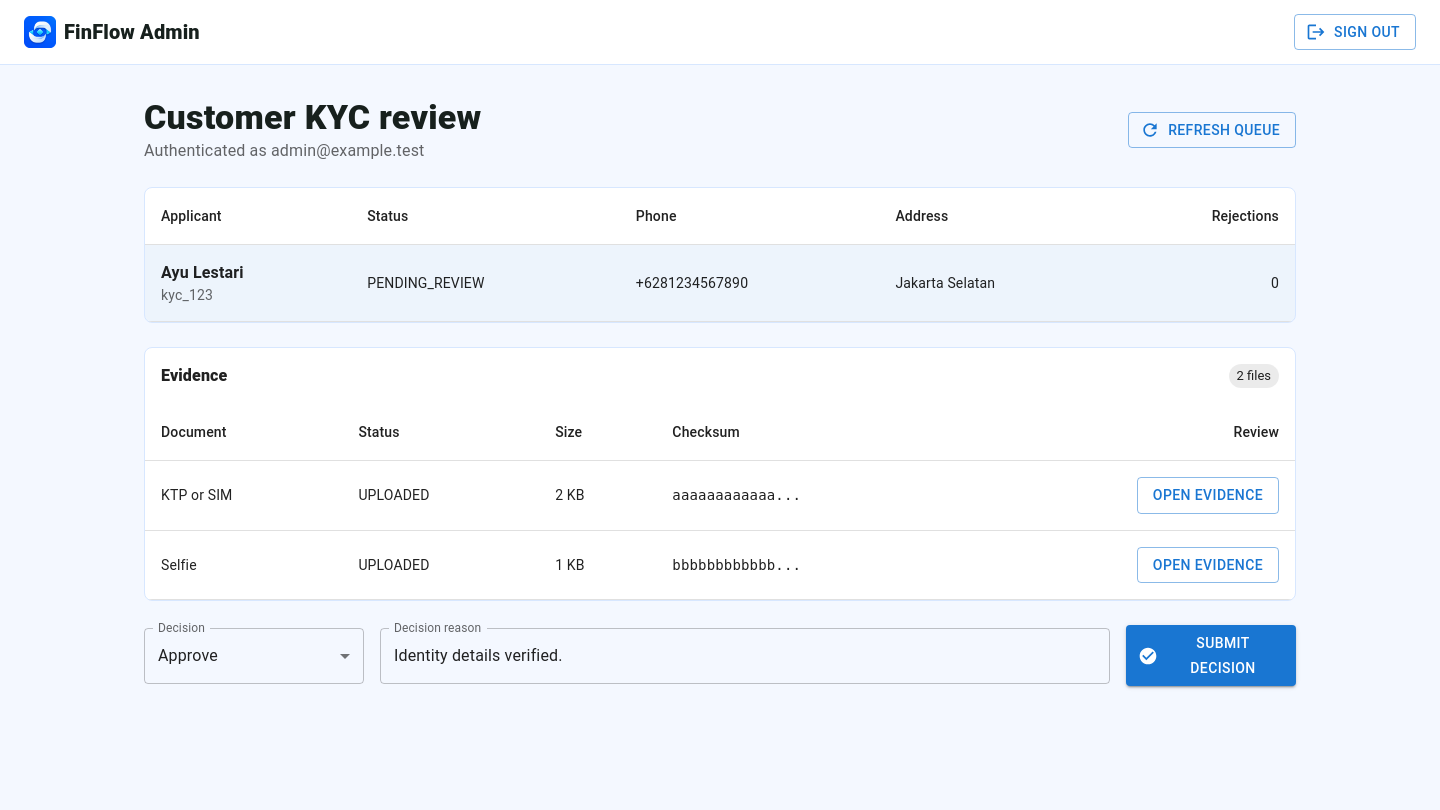
Scenario: App › loads pending KYC applications and submits an approval decision
Expected: the text "Ayu Lestari" is shown, [161,263,244,282]
Expected: the text "KTP or SIM" is shown, [145,460,342,530]
Click the button "Submit decision" at (1211, 656), box [1126,625,1296,686]
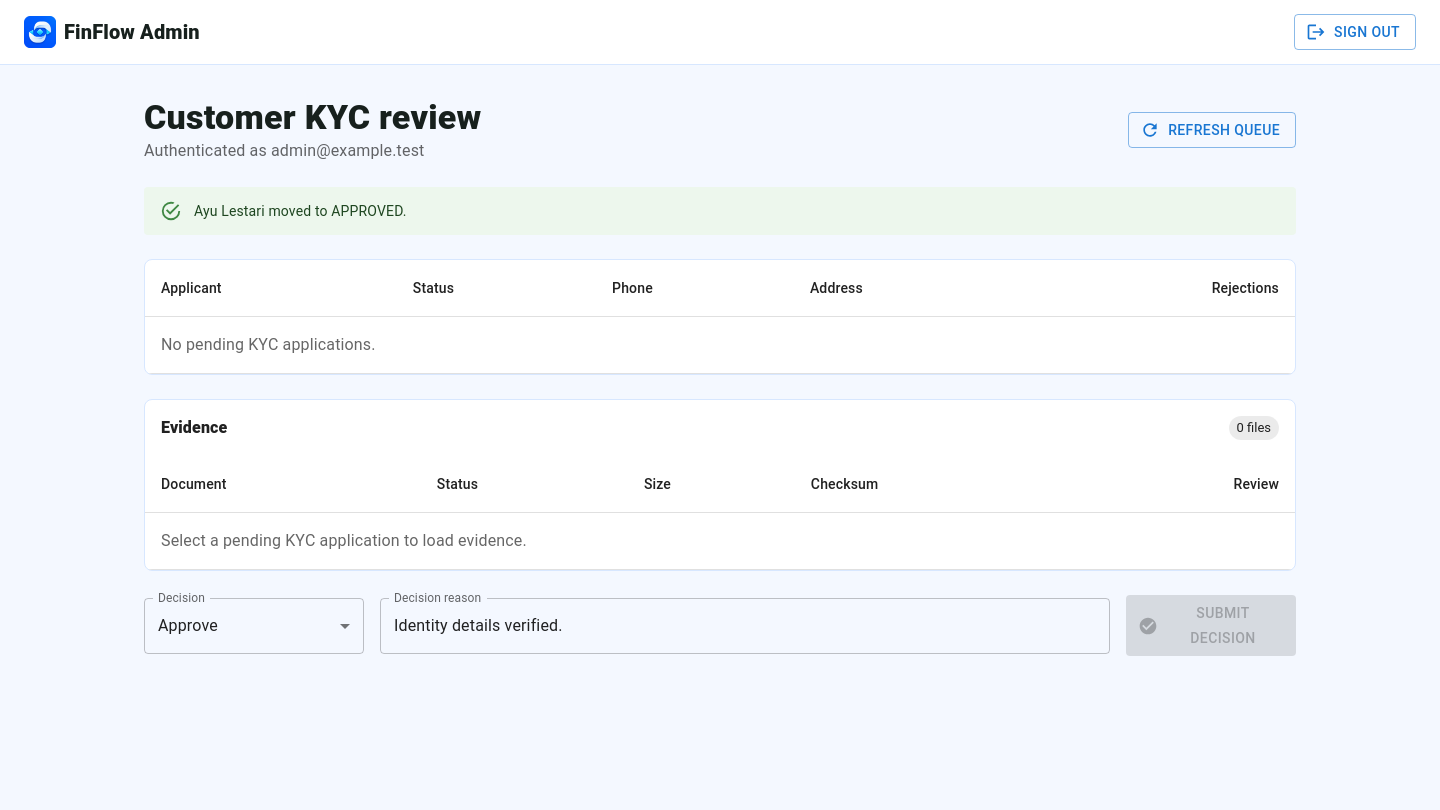
Expected: the text "Ayu Lestari moved to APPROVED." is shown, [194,203,407,219]
